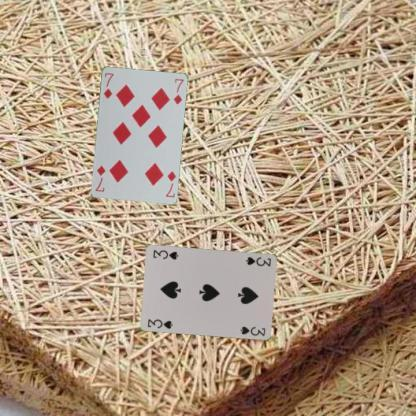3s: (145, 316, 175, 330), (243, 254, 272, 268)
7d: (101, 70, 115, 100), (163, 168, 177, 198)
